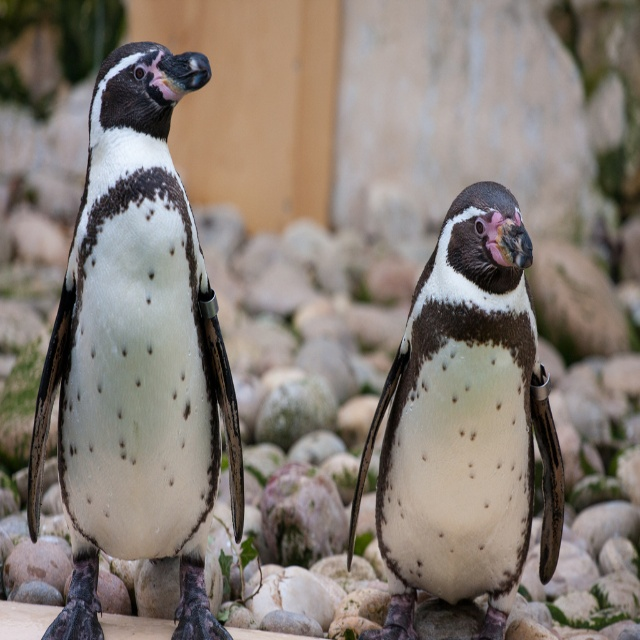Penguin: (26, 43, 247, 639), (348, 180, 568, 639)
